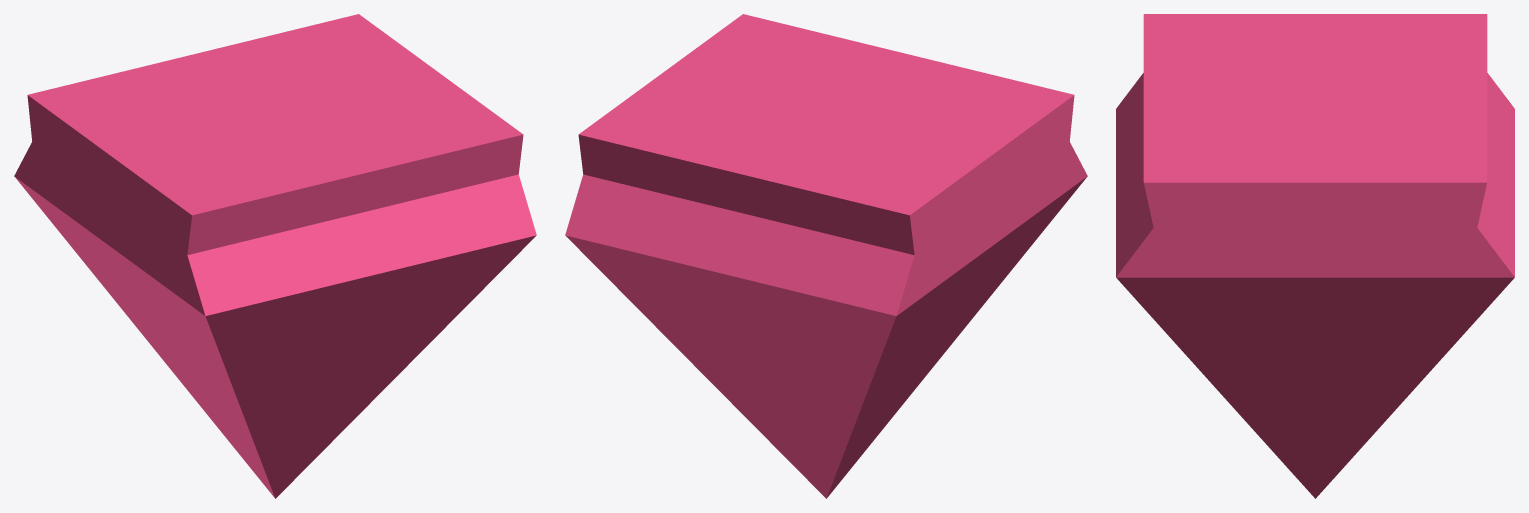
The model's file is Dimond_Imported.fbx.
The picture shows the model from 3 angles, left to right: view 1: azimuth 30°, elevation 25°; view 2: azimuth 150°, elevation 25°; view 3: azimuth 270°, elevation 25°; orthographic projection. The views are drawn at different scales.
Visible parts, largest first — view 1: Cube; view 2: Cube; view 3: Cube.
Part boxes in pixels (x1,y1,x2,y2): Cube: [14, 14, 536, 498]; Cube: [565, 14, 1087, 498]; Cube: [1116, 14, 1514, 498].
Bounding box in the file's own units: 150 × 167 × 150.
